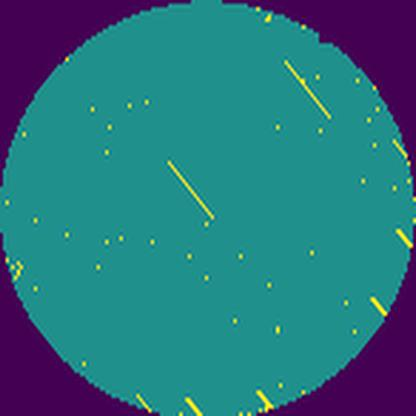Scratch: (277, 53, 335, 128), (165, 156, 220, 225)
